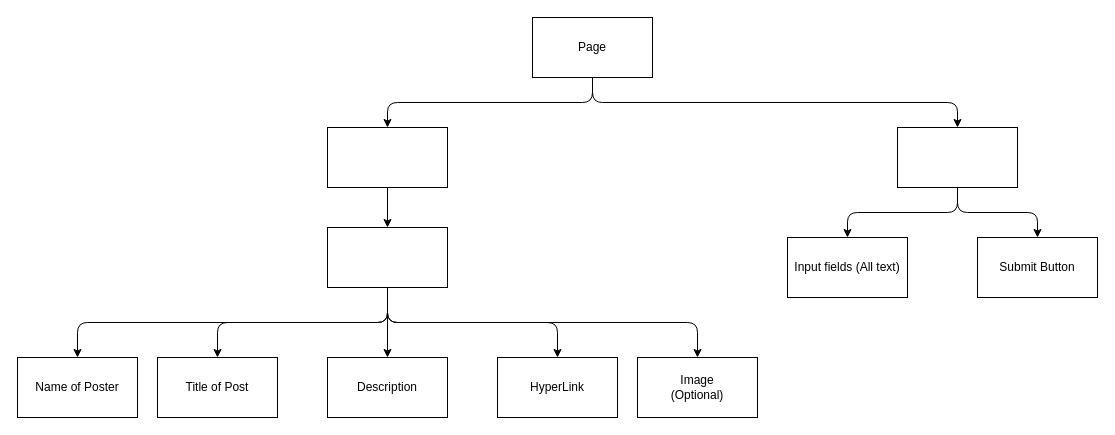
Some shapes in this 1115 by 435 pixel diagram are drawn without their labels. Each missing label, with the centre of its shape:
"Display feed" goes at (387,157).
"Individual Cards" goes at (387,257).
"Submit form" goes at (957,157).
